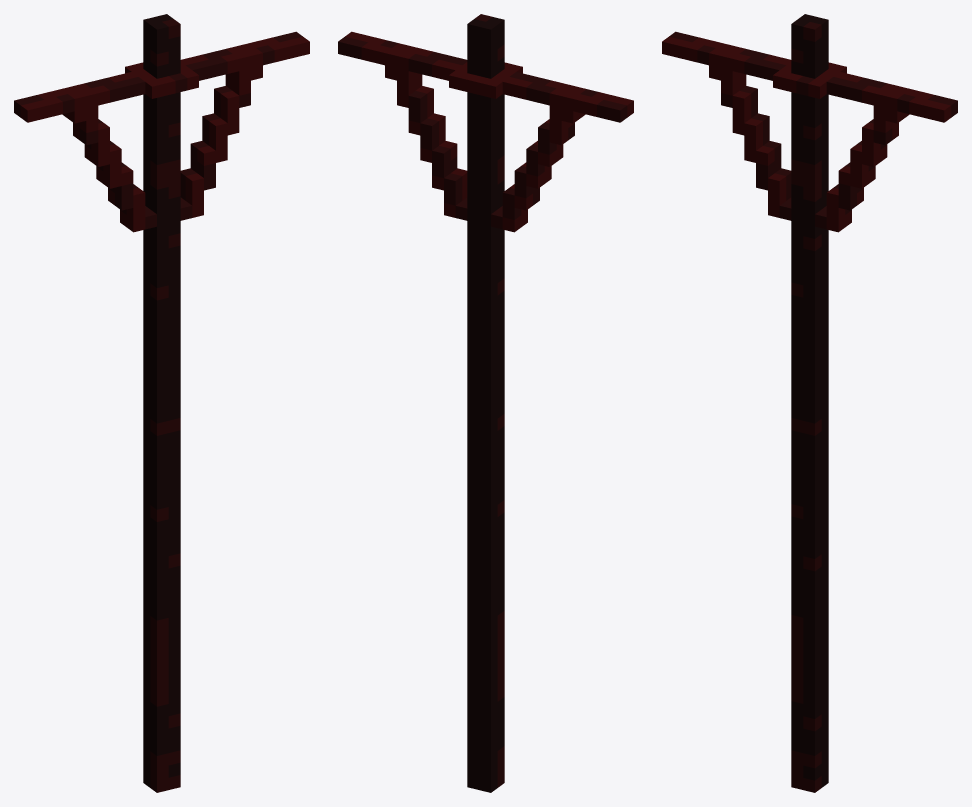
Rendered from Pole2_edit.obj.
3 views of the same model, side by side, from view 1: azimuth 30°, elevation 25°; view 2: azimuth 150°, elevation 25°; view 3: azimuth 330°, elevation 25° (orthographic).
Size of the model in its own units: 2.4 by 6.2 by 0.4.
1 material, 1 textured.
